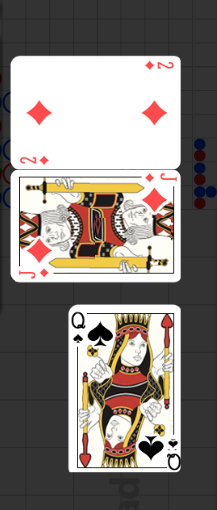2D: (143, 59, 175, 72)
9S: (70, 310, 86, 346), (166, 437, 180, 470)
